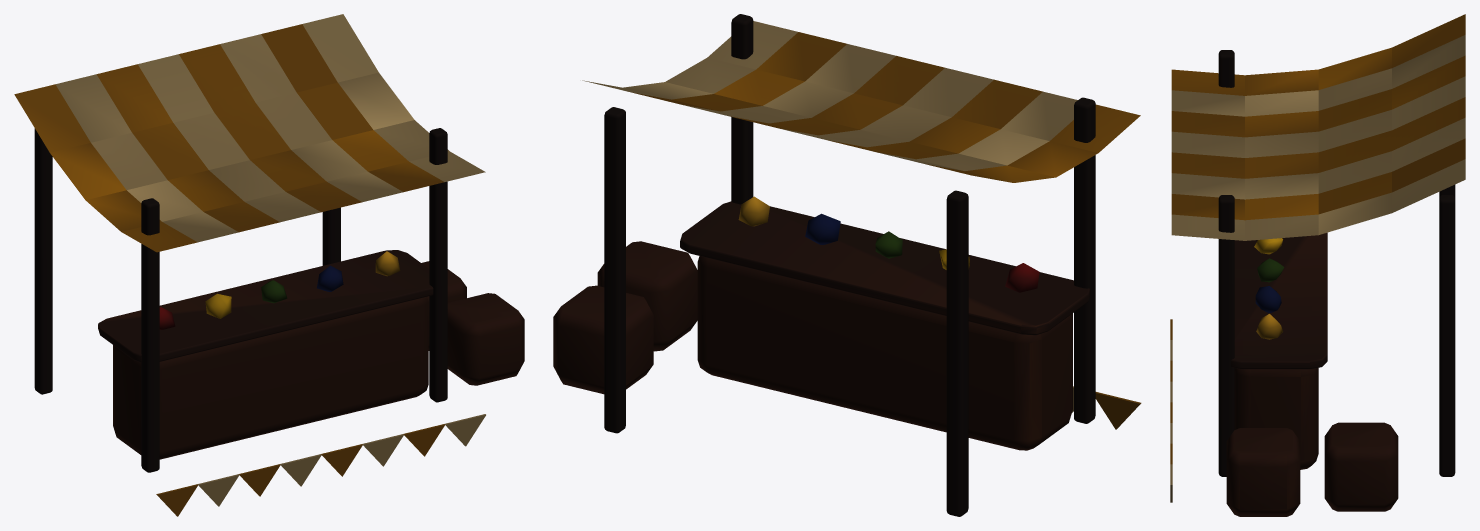
File: BarracaY.fbx
3 renders of one model, left to right at view 1: azimuth 30°, elevation 25°; view 2: azimuth 150°, elevation 25°; view 3: azimuth 270°, elevation 25°, orthographic. The views are drawn at different scales.
Parts seen in each view (by area): view 1: BarracaY; view 2: BarracaY; view 3: BarracaY.
Boxes of the visible parts, x1,y1,x2,y2 form: BarracaY: (14, 14, 524, 516); BarracaY: (553, 14, 1141, 516); BarracaY: (1170, 14, 1465, 516).
Size of the model in its own units: 3.9 by 3 by 2.41.
